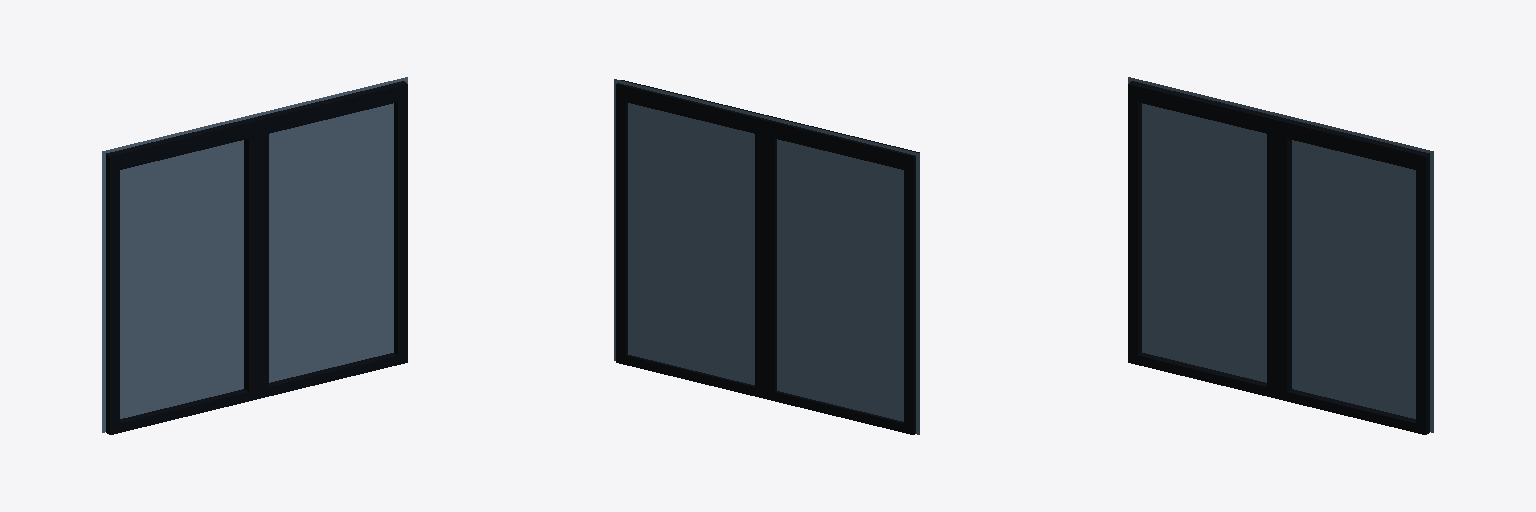
Rendered from chuang4.obj.
3 renders of one model, left to right at view 1: azimuth 30°, elevation 25°; view 2: azimuth 150°, elevation 25°; view 3: azimuth 330°, elevation 25°, orthographic.
Parts seen in each view (by area): view 1: Rectangle027, Rectangle026; view 2: Rectangle027, Rectangle026; view 3: Rectangle027, Rectangle026.
Part boxes in pixels (x1,y1,x2,y2): Rectangle027: (102, 77, 407, 432); Rectangle026: (106, 81, 407, 434); Rectangle027: (614, 79, 919, 434); Rectangle026: (616, 80, 919, 434); Rectangle027: (1128, 77, 1433, 432); Rectangle026: (1128, 81, 1429, 434).
Bounding box in the file's own units: 18 × 15.82 × 0.6.